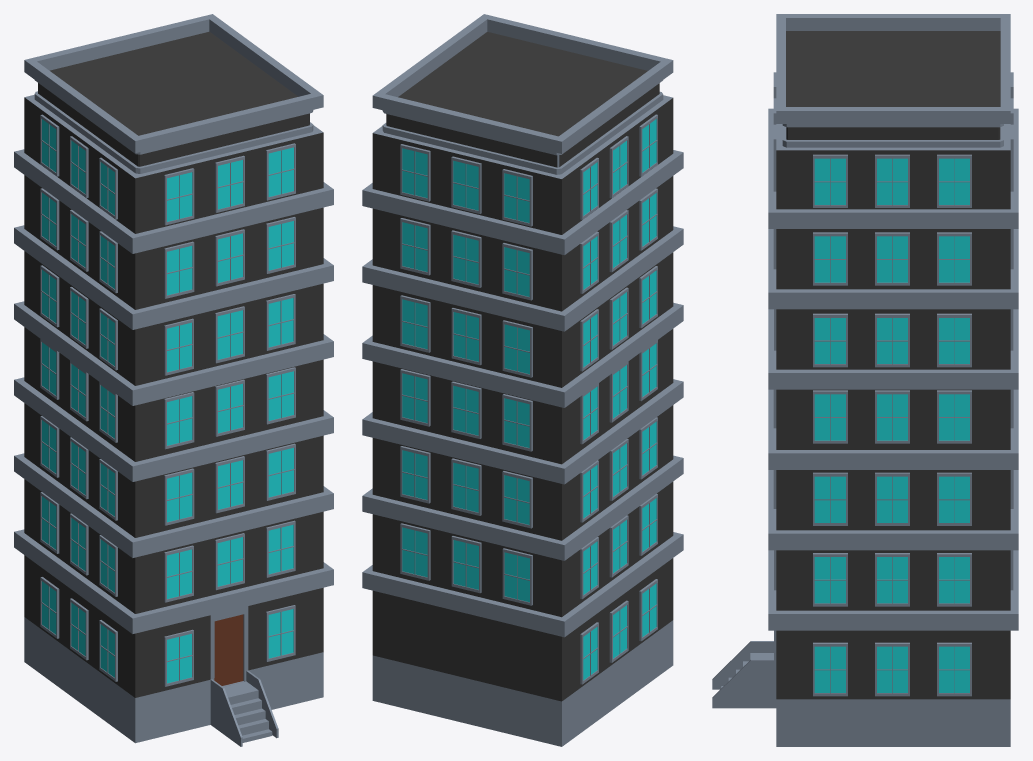
File: ApartmentBuilding.fbx
3 renders of one model, left to right at view 1: azimuth 30°, elevation 25°; view 2: azimuth 150°, elevation 25°; view 3: azimuth 270°, elevation 25°, orthographic. The views are drawn at different scales.
Visible parts, largest first — view 1: ApartmentBuilding; view 2: ApartmentBuilding; view 3: ApartmentBuilding.
Part boxes in pixels (<box>): ApartmentBuilding: <box>14,14,333,746</box>; ApartmentBuilding: <box>362,14,683,746</box>; ApartmentBuilding: <box>712,14,1018,746</box>.
Size of the model in its own units: 1187 by 3397 by 1480.
